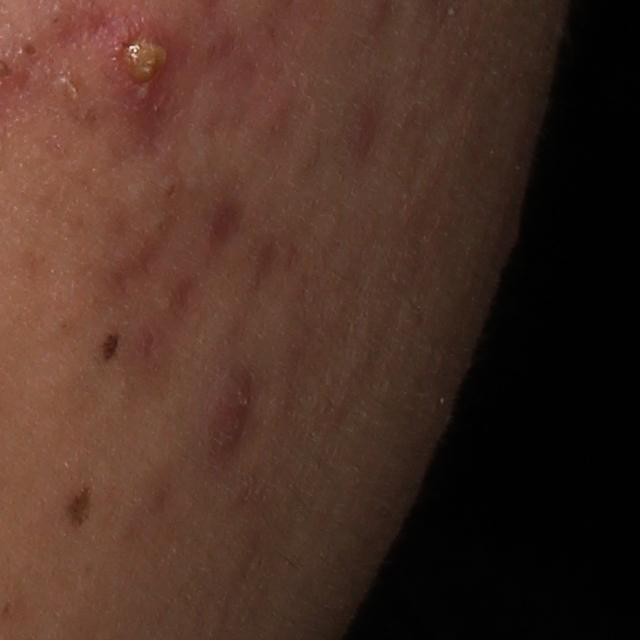comedo: (159, 176, 188, 206), (19, 38, 40, 58)
nevus: (65, 483, 96, 530), (98, 331, 120, 365)
nodule: (93, 10, 192, 130)
papule: (209, 374, 250, 448)
